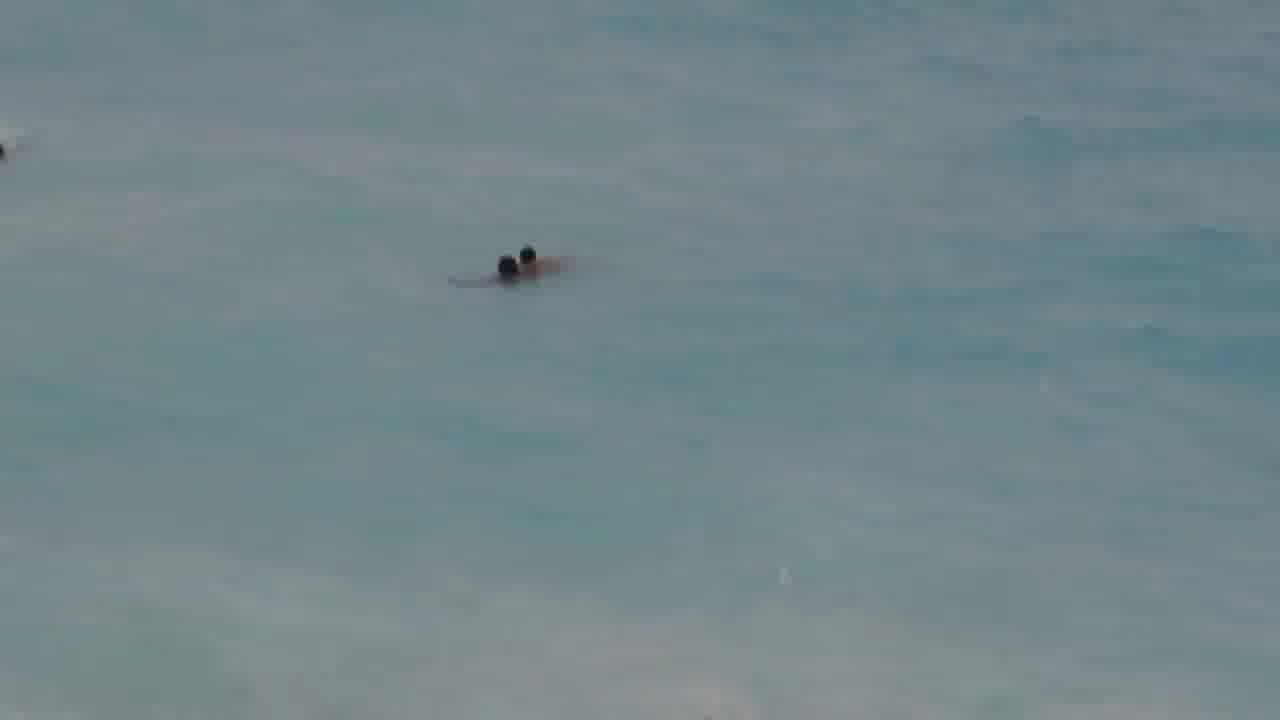human: (514, 234, 555, 279), (483, 251, 522, 284)
